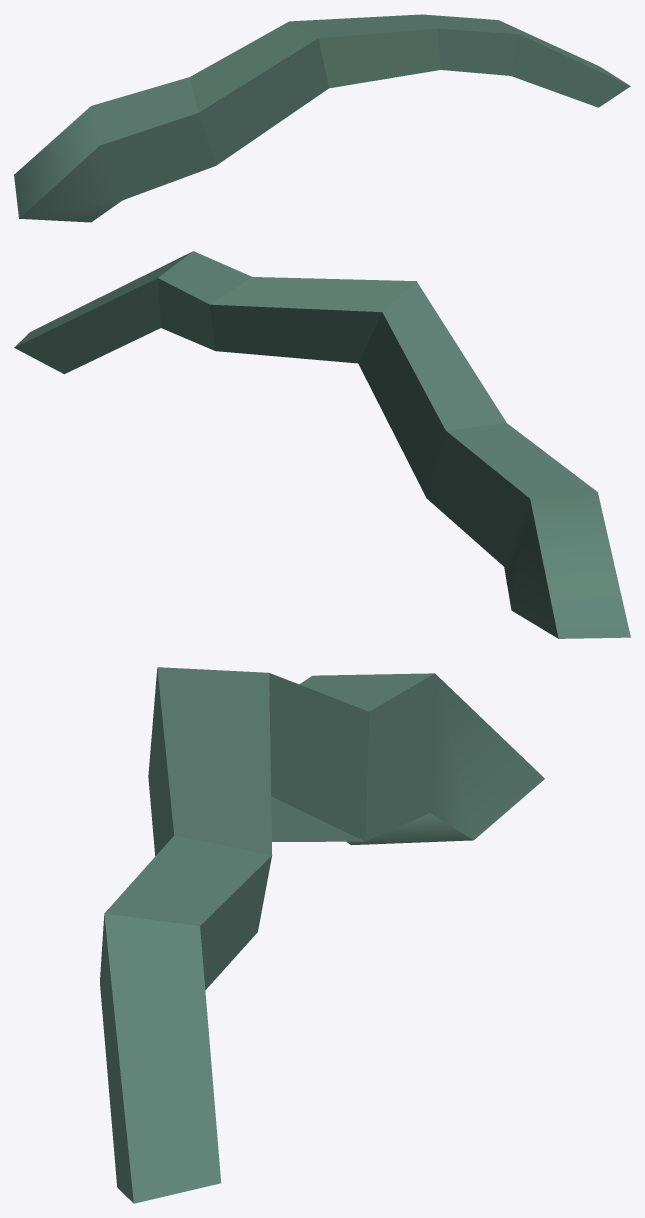
File: raiz_1.fbx
3 views of the same model, one above another, from view 1: azimuth 30°, elevation 25°; view 2: azimuth 150°, elevation 25°; view 3: azimuth 270°, elevation 25° (orthographic). The views are drawn at different scales.
Visible parts, largest first — view 1: p_raiz_chica; view 2: p_raiz_chica; view 3: p_raiz_chica.
Boxes of the visible parts, left/top/right/bottom form: p_raiz_chica: left=14, top=14, right=630, bottom=222; p_raiz_chica: left=14, top=251, right=630, bottom=638; p_raiz_chica: left=100, top=667, right=544, bottom=1203.
Bounding box in the file's own units: 71.48 × 22.3 × 25.53.
